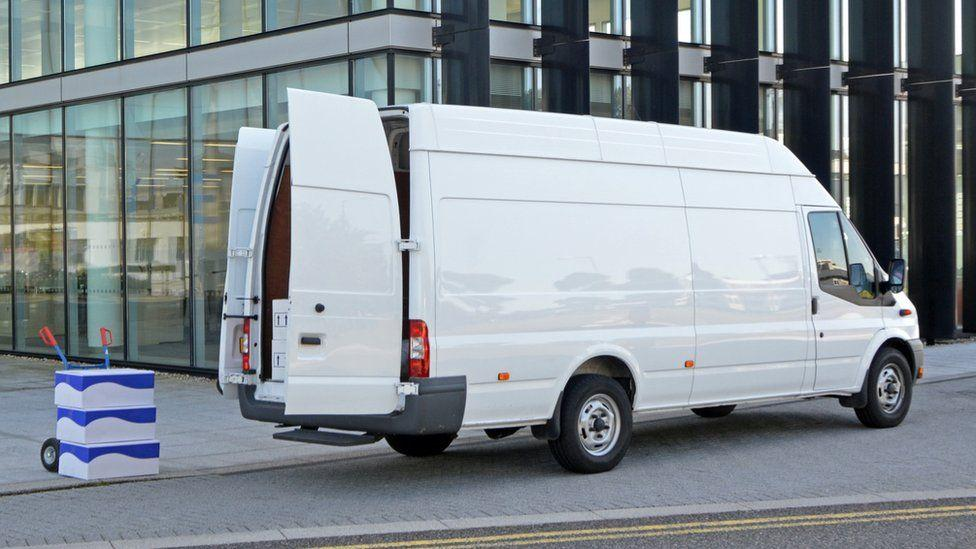van: (218, 87, 925, 476)
